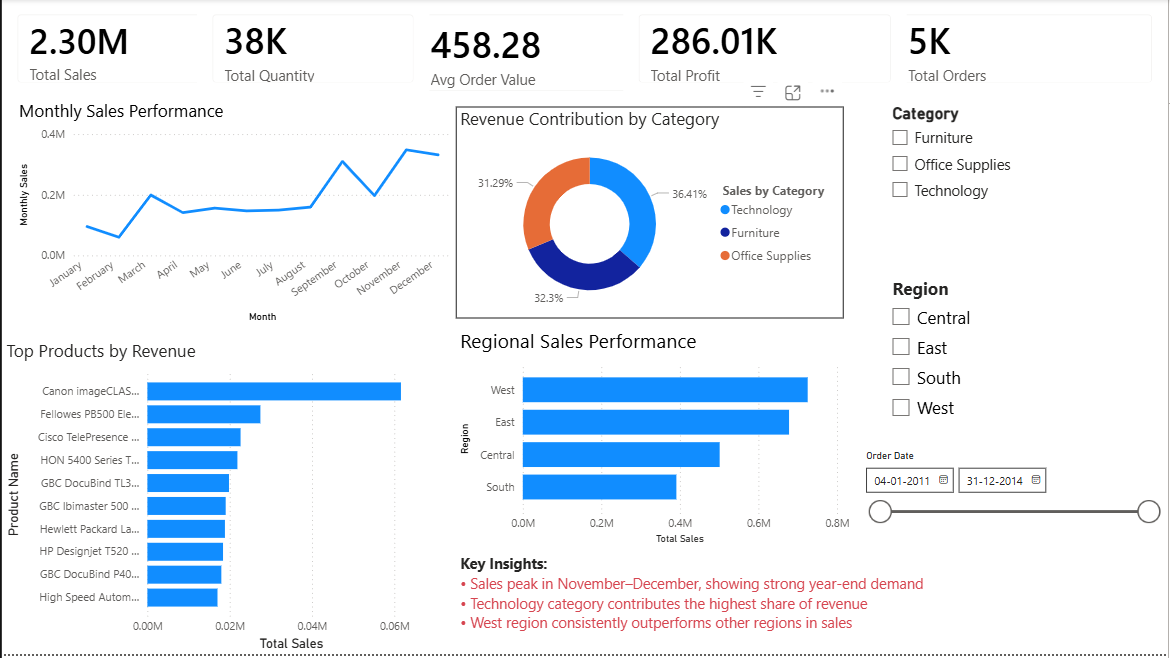

The page's visual inventory and layout, read from the dashboard file:
{"tool":"powerbi","page":{"name":"Page 1","canvas":[1280,720],"ordinal":0},"visuals":[{"type":"cardVisual","fields":{"Data":["Sales.Total Sales"]},"box":[0,0,249.7,109.8],"z":0},{"type":"cardVisual","fields":{"Data":["People.Avg Order Value"]},"box":[440.5,0,269,118],"z":1000},{"type":"cardVisual","fields":{"Data":["People.Total Orders"]},"box":[964.7,0,315.6,109.8],"z":2000},{"type":"cardVisual","fields":{"Data":["People.Total Profit"]},"box":[682,0,311.5,109.8],"z":3000},{"type":"cardVisual","fields":{"Data":["People.Total Quantity"]},"box":[214.1,0,255.2,109.8],"z":4000},{"type":"lineChart","title":"Monthly Sales Performance","fields":{"Category":["Orders.Month"],"Y":["Orders.Total Sales"]},"box":[13.7,109.8,484.4,249.7],"z":5000},{"type":"donutChart","title":"Revenue Contribution by Category","fields":{"Category":["Orders.Category"],"Y":["Orders.Total Sales"]},"box":[498.1,118,425.4,233.3],"z":6000},{"type":"clusteredBarChart","title":"Regional Sales Performance","fields":{"Y":["Orders.Total Sales"],"Category":["Orders.Region"]},"box":[498.1,359.5,437.7,244.3],"z":7000},{"type":"clusteredBarChart","title":"Top Products by Revenue","fields":{"Category":["Orders.Product Name"],"Y":["Orders.Total Sales"]},"box":[0,373.2,498.1,347.2],"z":8000},{"type":"slicer","fields":{"Values":["Orders.Category"]},"box":[964.7,109.8,315.6,190.7],"z":9000},{"type":"slicer","fields":{"Values":["Orders.Region"]},"box":[964.7,300.5,315.6,189.4],"z":10000},{"type":"slicer","fields":{"Values":["Orders.Order Date"]},"box":[935.9,489.9,344.4,113.9],"z":11000},{"type":"textbox","box":[498.1,603.8,572.2,116.6],"z":13000}]}

Visuals, with their boxes in screenshot pixels (x1, y1, x2, y2), scaled from the page's 1280x720 canvas onto the 1170x658 screenshot:
cardVisual - Sales.Total Sales: bbox(0, 0, 228, 100)
cardVisual - People.Avg Order Value: bbox(403, 0, 649, 108)
cardVisual - People.Total Orders: bbox(882, 0, 1169, 100)
cardVisual - People.Total Profit: bbox(623, 0, 908, 100)
cardVisual - People.Total Quantity: bbox(196, 0, 429, 100)
"Monthly Sales Performance" lineChart: bbox(13, 100, 455, 329)
"Revenue Contribution by Category" donutChart: bbox(455, 108, 844, 321)
"Regional Sales Performance" clusteredBarChart: bbox(455, 329, 855, 552)
"Top Products by Revenue" clusteredBarChart: bbox(0, 341, 455, 657)
slicer - Orders.Category: bbox(882, 100, 1169, 275)
slicer - Orders.Region: bbox(882, 275, 1169, 448)
slicer - Orders.Order Date: bbox(855, 448, 1169, 552)
textbox: bbox(455, 552, 978, 657)
